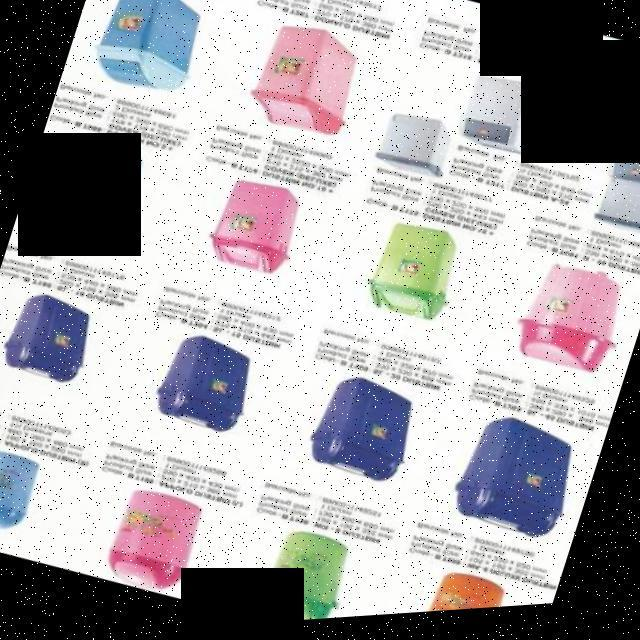bin: (433, 405, 602, 568), (15, 118, 194, 270), (135, 316, 292, 476), (232, 8, 393, 164), (65, 0, 258, 130), (86, 473, 255, 621), (185, 163, 354, 308), (289, 361, 452, 510), (344, 209, 504, 353), (495, 254, 640, 407), (0, 271, 135, 431), (240, 516, 402, 627), (0, 425, 87, 561), (392, 555, 556, 620), (462, 69, 556, 169), (372, 102, 469, 193), (592, 177, 640, 257), (610, 115, 640, 198)
